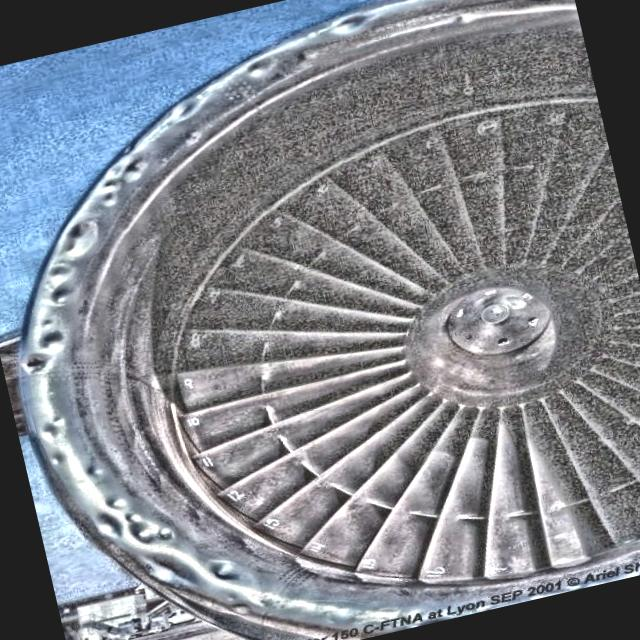dent: (90, 466, 269, 640), (44, 212, 112, 264)
